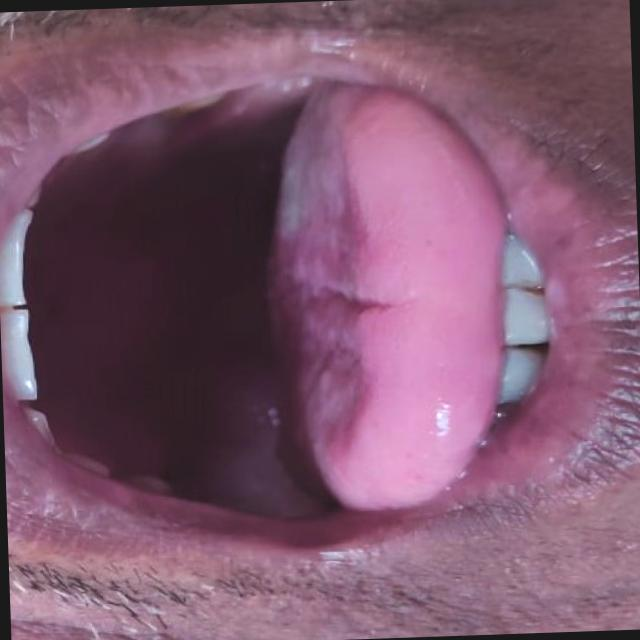No Cancer: (214, 100, 498, 503)
